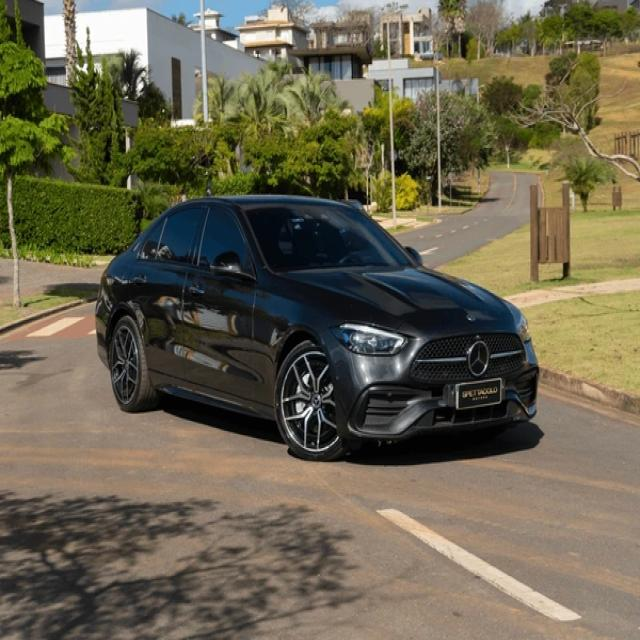mercedes: (467, 340, 492, 376)
